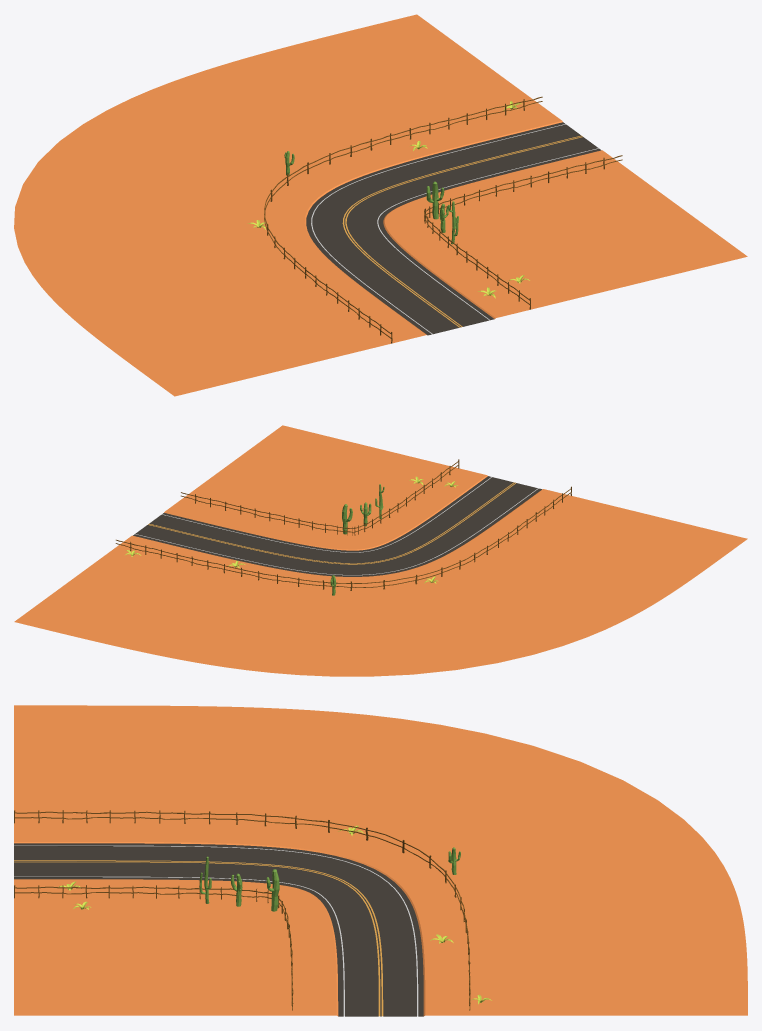
File: DesertRoadLeft.fbx
3 renders of one model, top to bottom at view 1: azimuth 30°, elevation 25°; view 2: azimuth 150°, elevation 25°; view 3: azimuth 270°, elevation 25°, orthographic. The views are drawn at different scales.
Parts seen in each view (by area): view 1: DRLRoad, DRLWoodFenceLeft, DRLWoodFenceRight; view 2: DRLRoad, DRLWoodFenceLeft, DRLWoodFenceRight; view 3: DRLRoad, DRLWoodFenceLeft, DRLWoodFenceRight.
Part boxes in pixels (x1,y1,x2,y2): DRLRoad: (14,14,747,396); DRLWoodFenceLeft: (264,96,542,343); DRLWoodFenceRight: (424,155,622,309); DRLRoad: (14,425,747,676); DRLWoodFenceLeft: (115,486,571,590); DRLWoodFenceRight: (181,459,459,535); DRLRoad: (14,705,747,1016); DRLWoodFenceLeft: (14,810,470,1010); DRLWoodFenceRight: (14,885,293,1010).
Size of what is drawn, in the model's own units: 12000 by 877 by 12000.
